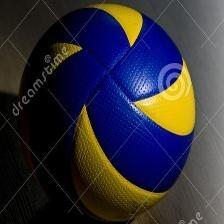Sports-Ball: (11, 4, 197, 215)
